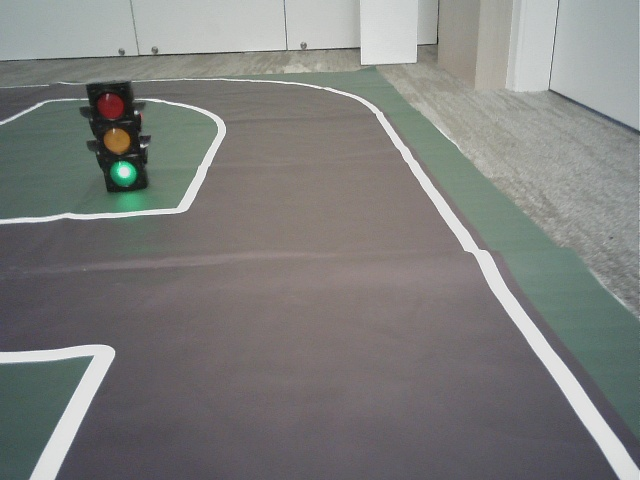green: (92, 86, 140, 186)
